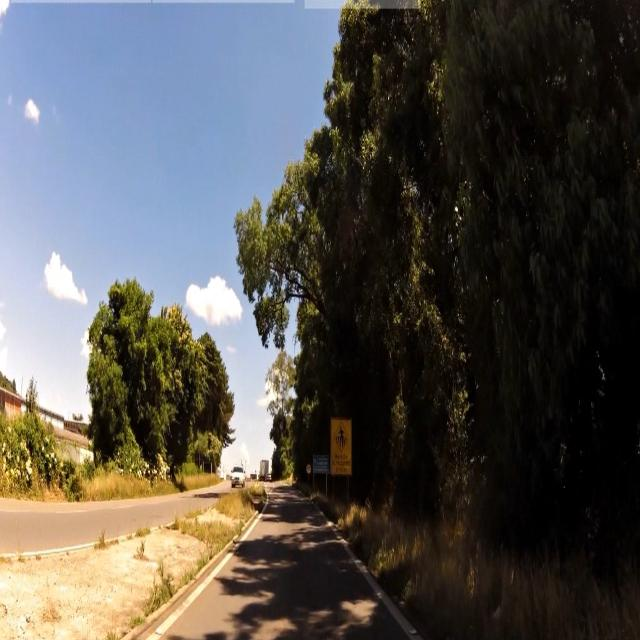A-32b: (334, 421, 351, 452)
